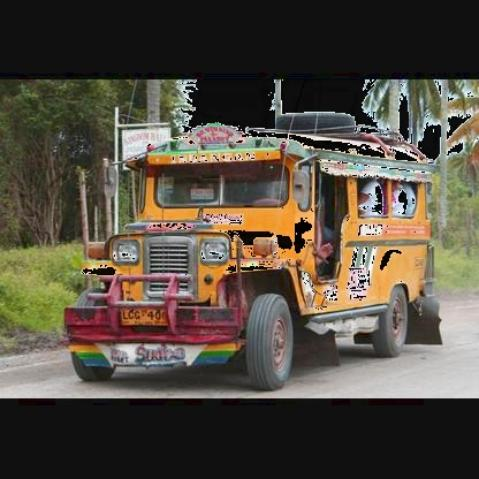jeepney: (43, 114, 451, 390)
